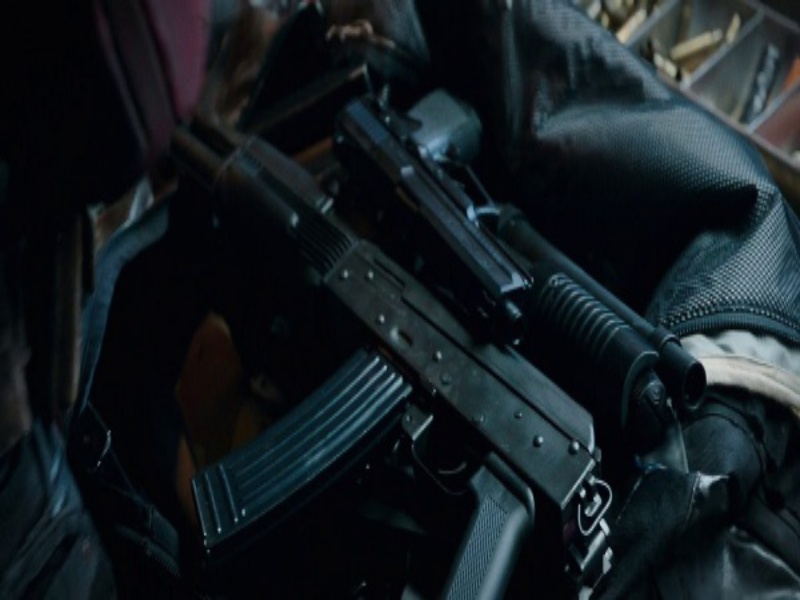weapon: (169, 106, 600, 595), (331, 101, 535, 353)
